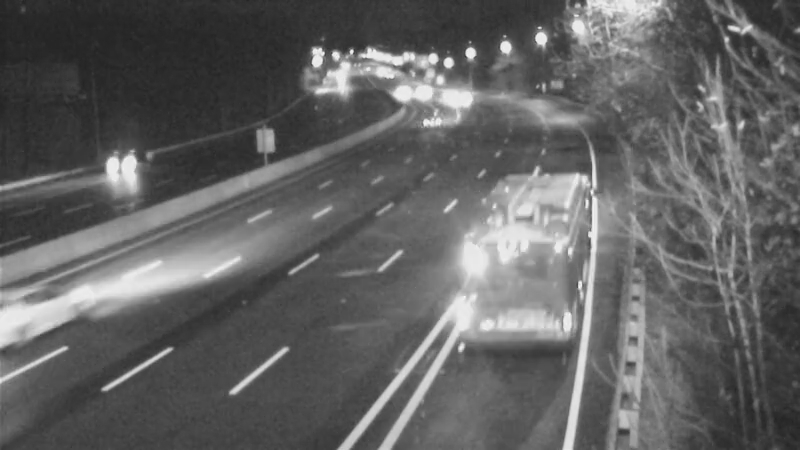vehicle: (1, 259, 98, 369), (459, 208, 539, 288), (76, 125, 156, 205), (363, 49, 413, 99), (403, 67, 453, 117), (369, 66, 419, 116), (422, 70, 472, 120), (431, 76, 481, 126), (404, 94, 454, 144)
